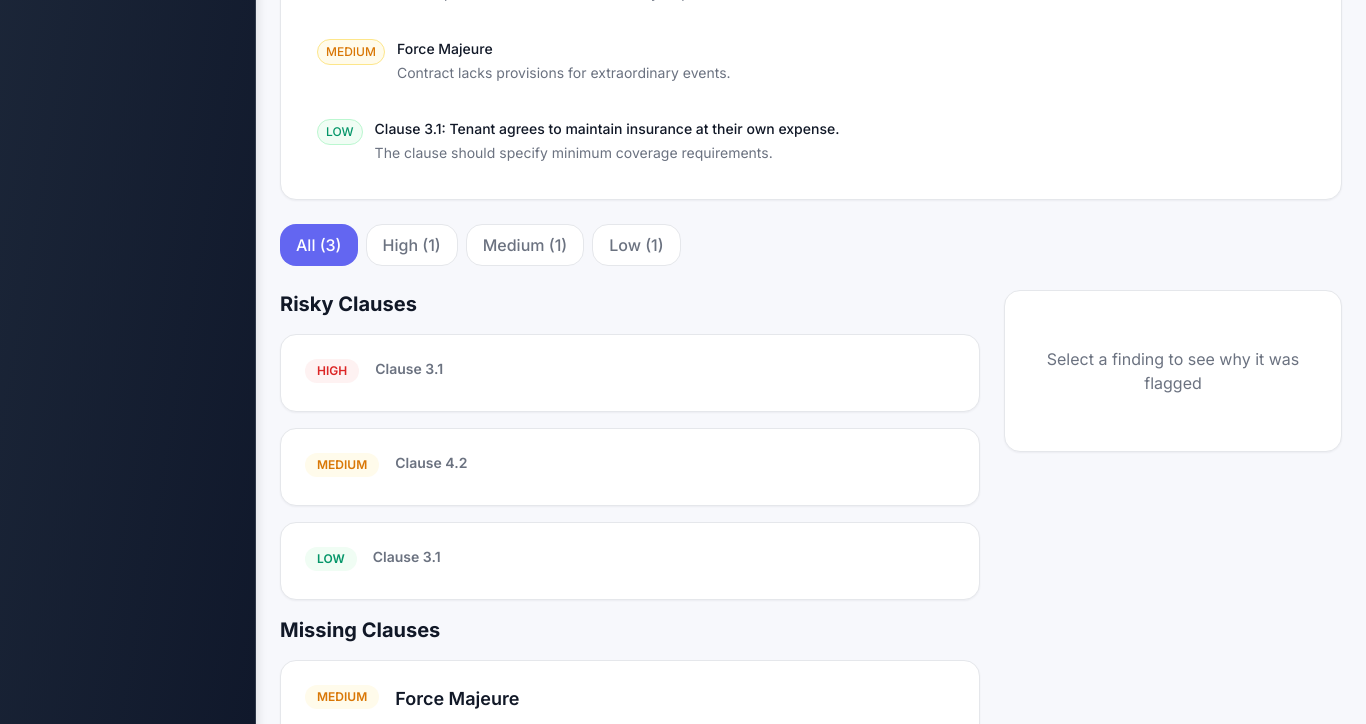
ReportView › clicking card expands to show details, clicking again collapses
The image size is (1366, 724).
(page scrolled)
// Click to expand
Step 1. Click the element with test id "finding-card" showing "high Clause 3.1" → (630, 373), box [280,334,980,412]
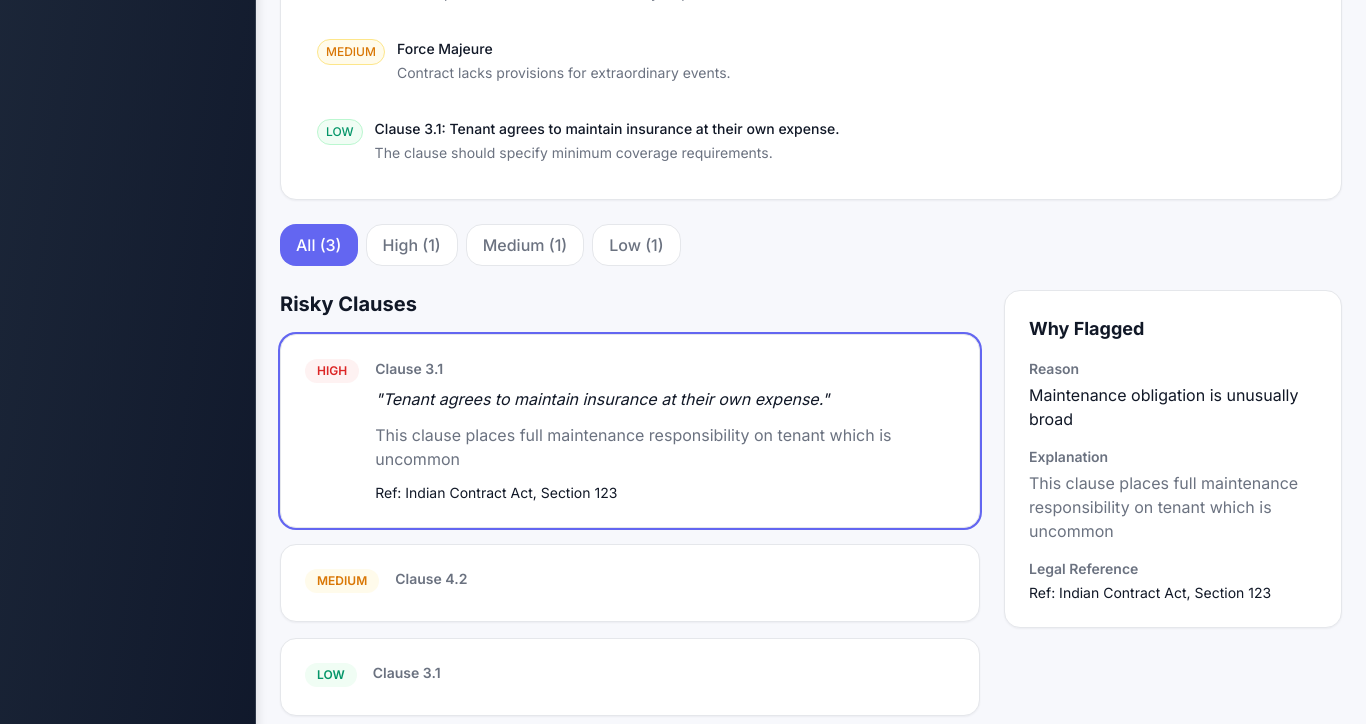
Check: the element with test id "finding-details" is shown, box [375,387,955,503]
Check: the element with test id "finding-details" shows "Tenant agrees to maintain insurance", box [383,389,822,409]
Check: the element with test id "finding-details" shows "This clause places full maintenance responsibility", box [375,425,891,469]
// Click again to collapse
Step 2. Click the element with test id "finding-card" that starts with "high" → (630, 431), box [280,334,980,528]
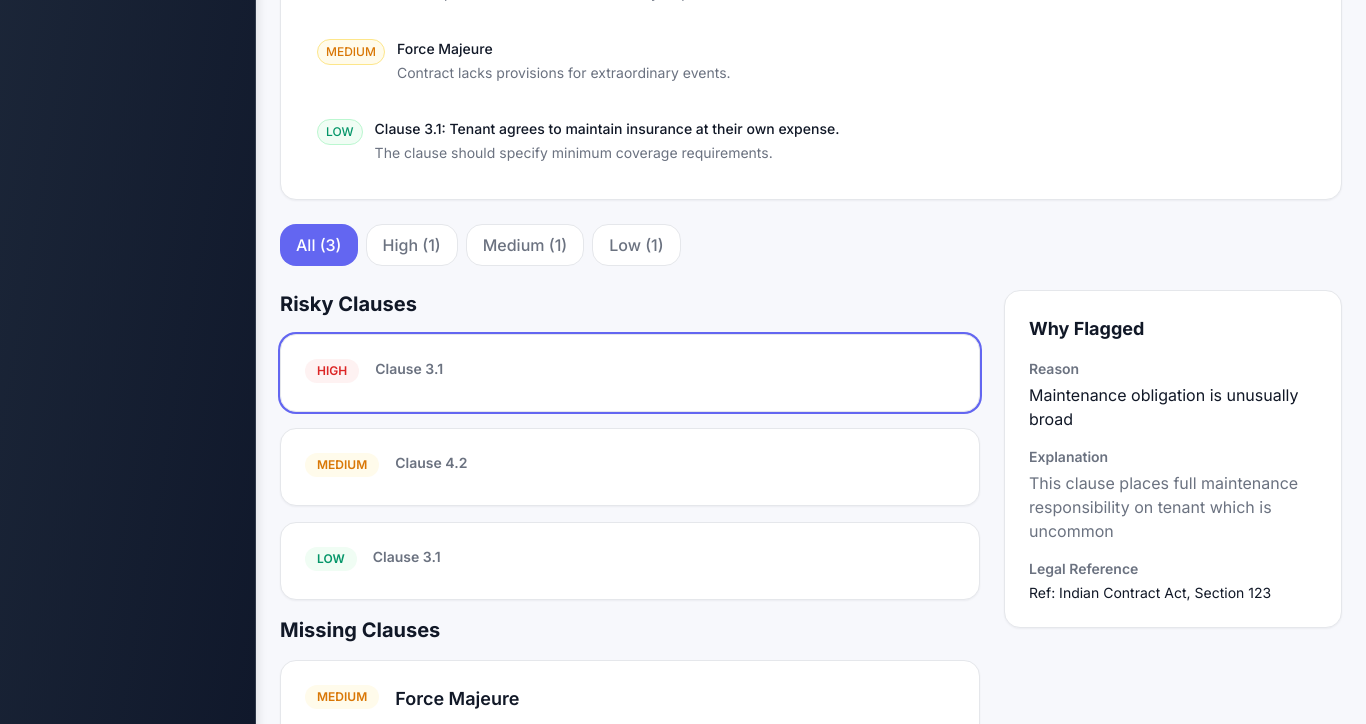
Check: the element with test id "finding-details" is gone
